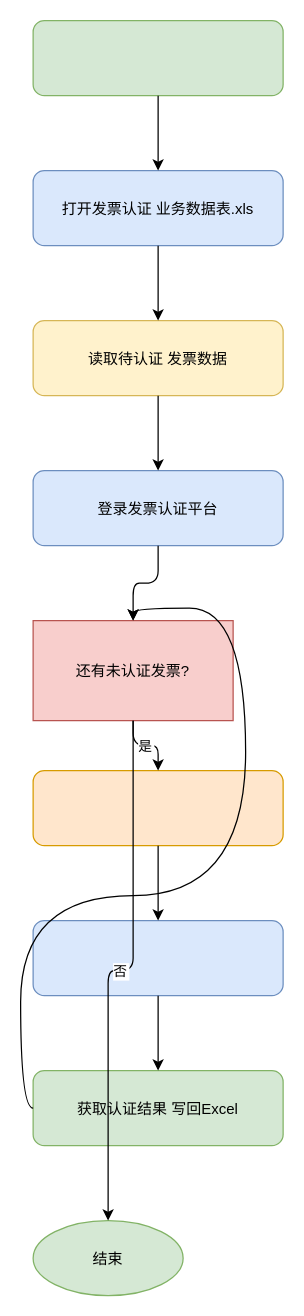
The diagram is 304 pixels wide and 1316 high, and some of its shapes have lost their labels. Here are the shapes that lost their labels. From the top down, the box of each, then its label:
(32, 19, 283, 96): 开始
(32, 769, 283, 846): 输入发票信息 + 认证密钥
(32, 919, 283, 996): 点击 '认证' 按钮
